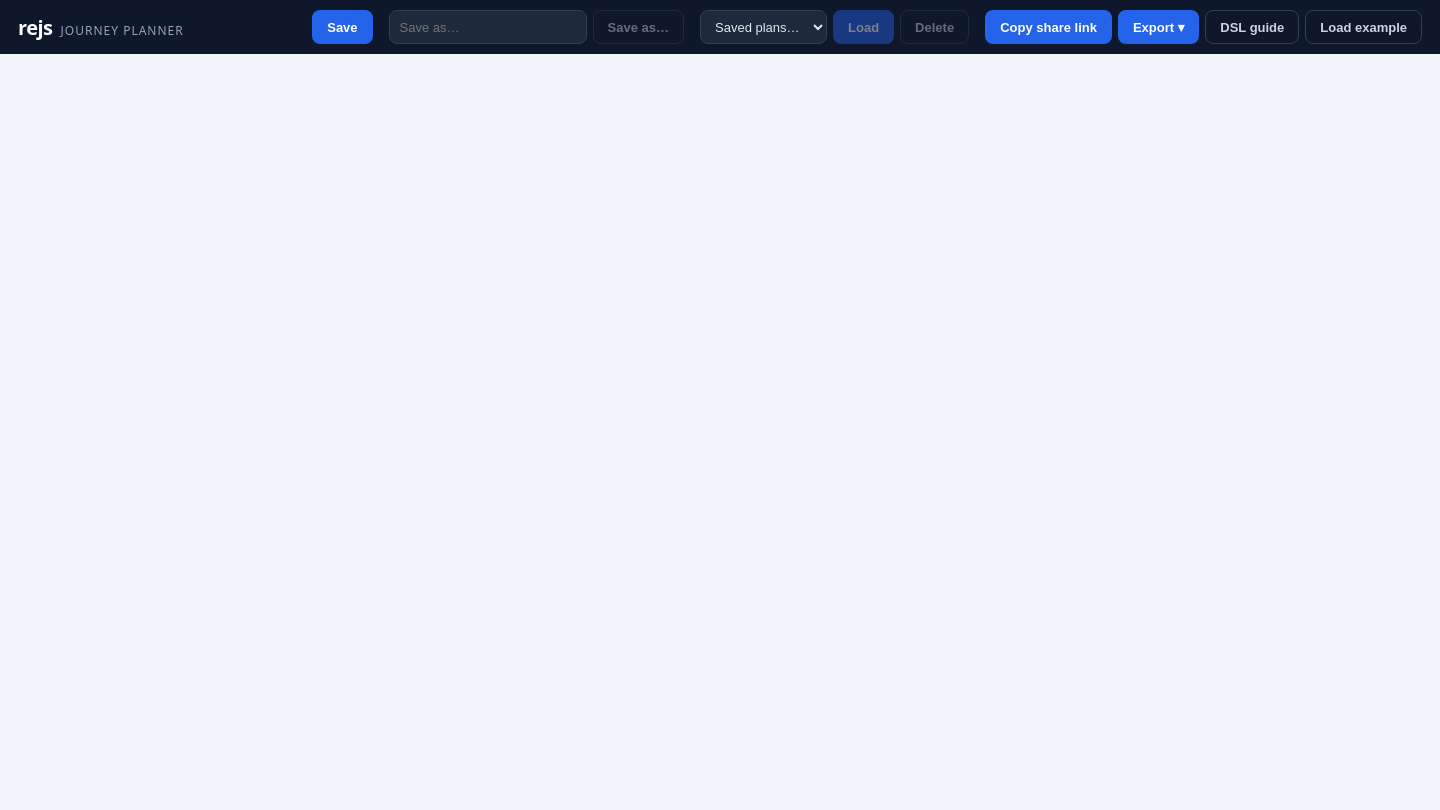
Test: Toolbar export menu › closes on an outside click
Click the button "Export ▾".
click(1159, 27)  # box [1118,10,1199,44]
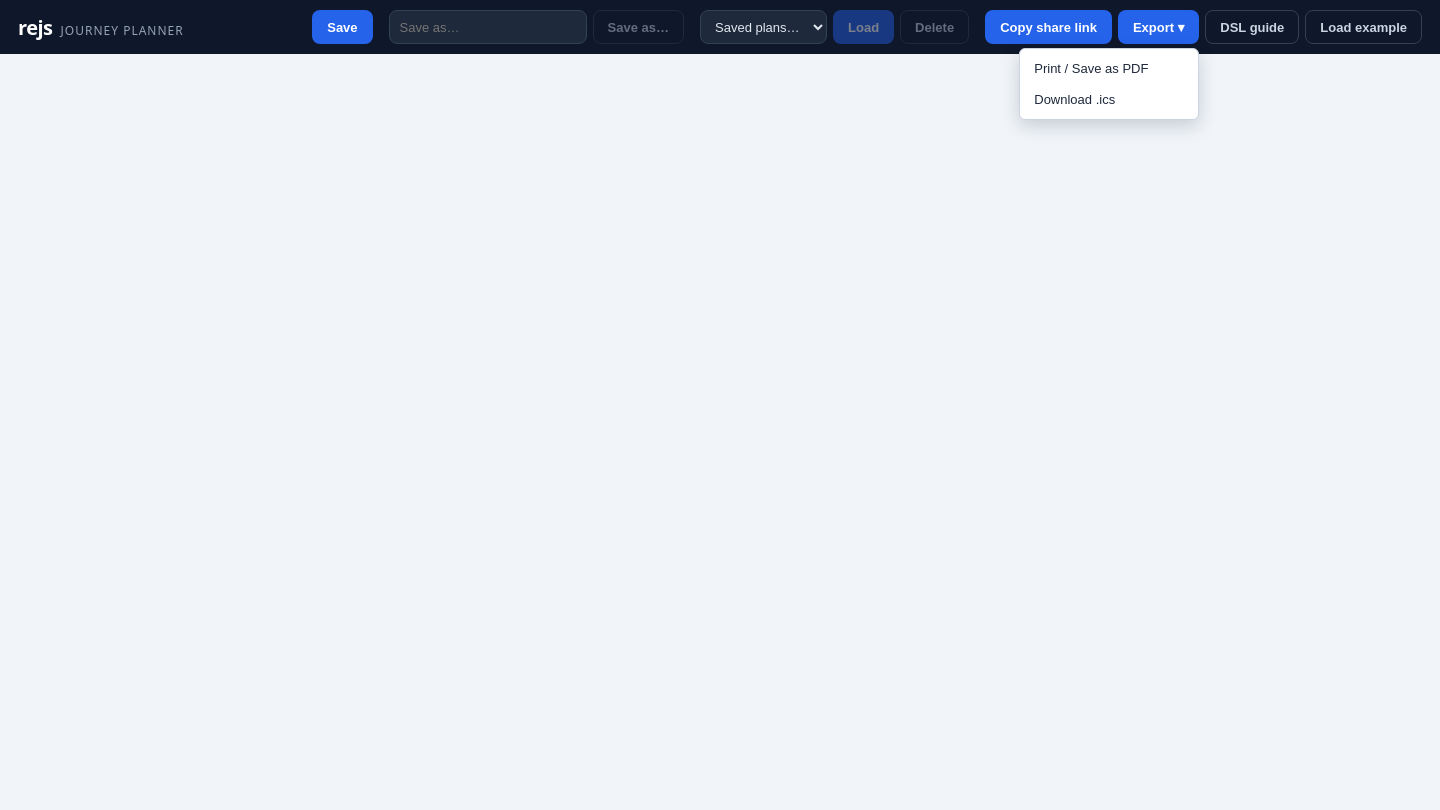
Expected: the menu is shown, [1019,48,1199,120]
Press the mouse on the element that starts with "rejs" at (720, 405), box [0,0,1439,809]
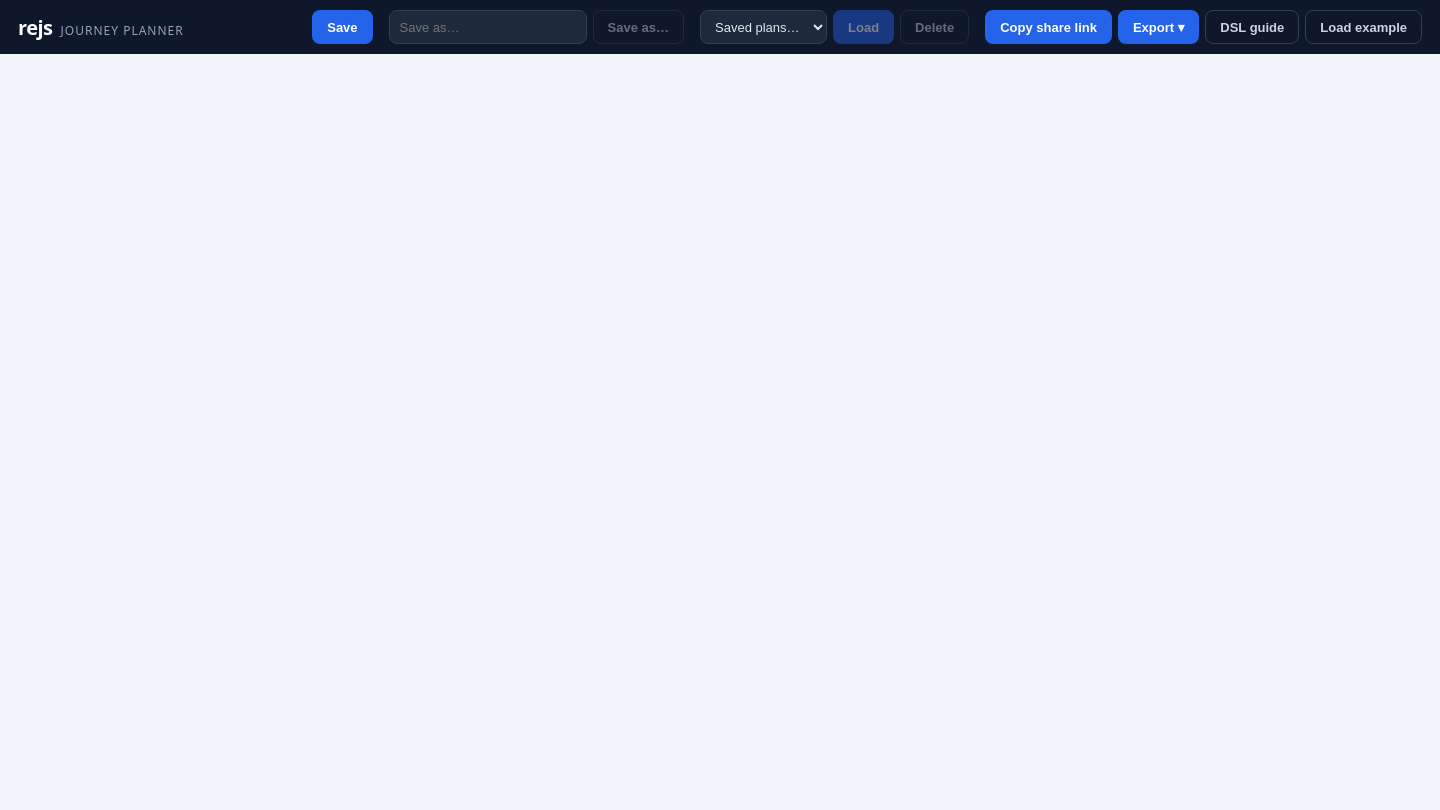
Expected: the menu is gone
